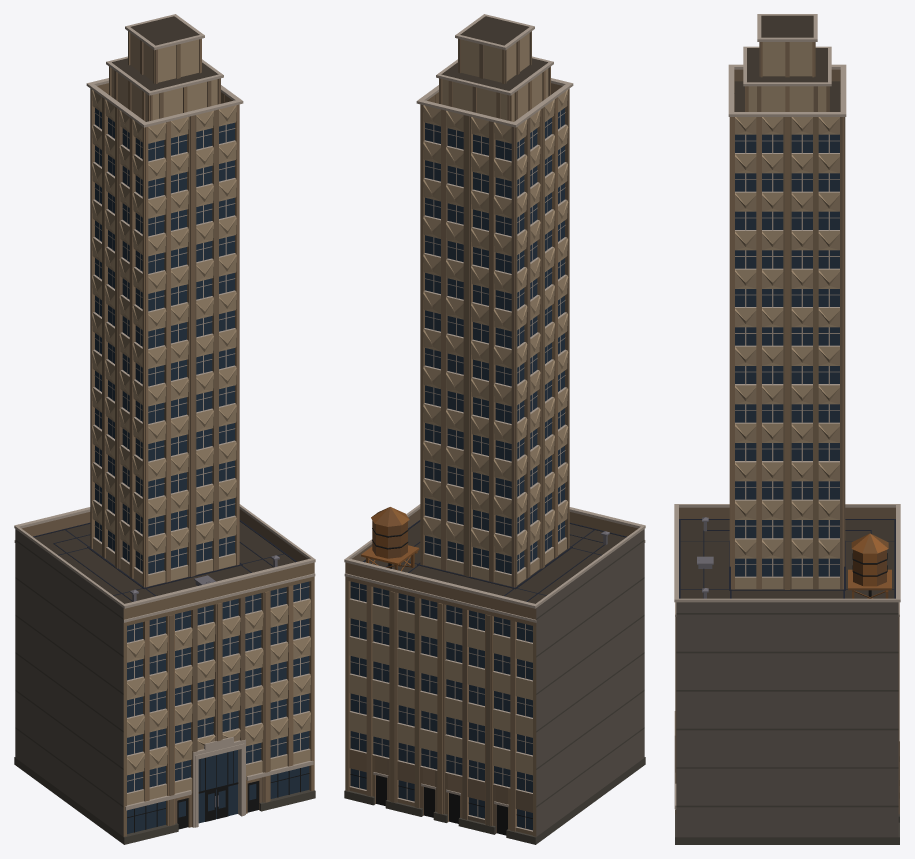
Rendered from deco-tower.glb.
3 views of the same model, side by side, from view 1: azimuth 30°, elevation 25°; view 2: azimuth 150°, elevation 25°; view 3: azimuth 270°, elevation 25° (orthographic). The views are drawn at different scales.
Visible parts, largest first — view 1: tower-body; view 2: tower-body; view 3: tower-body.
Part boxes in pixels (x1,y1,x2,y2): tower-body: [14, 14, 315, 844]; tower-body: [344, 14, 645, 844]; tower-body: [674, 14, 900, 844].
Size of the model in its own units: 16 by 60 by 16.
